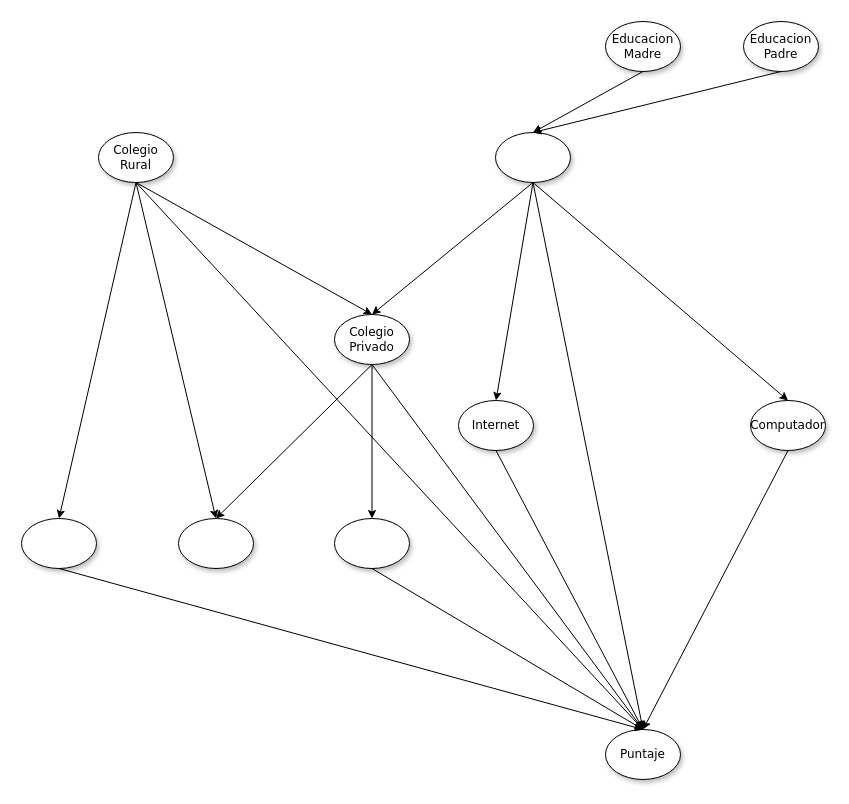
The diagram is 849 pixels wide and 804 high, and some of its shapes have lost their labels. The shapes that lost their labels are listed below. From the top down, each one's centre as x and y in pixels, then its label:
(x=533, y=159): Estrato
(x=59, y=545): Presenta otro Municipio
(x=217, y=545): Estudia otro Municipio
(x=373, y=545): Colegio Bilingue
